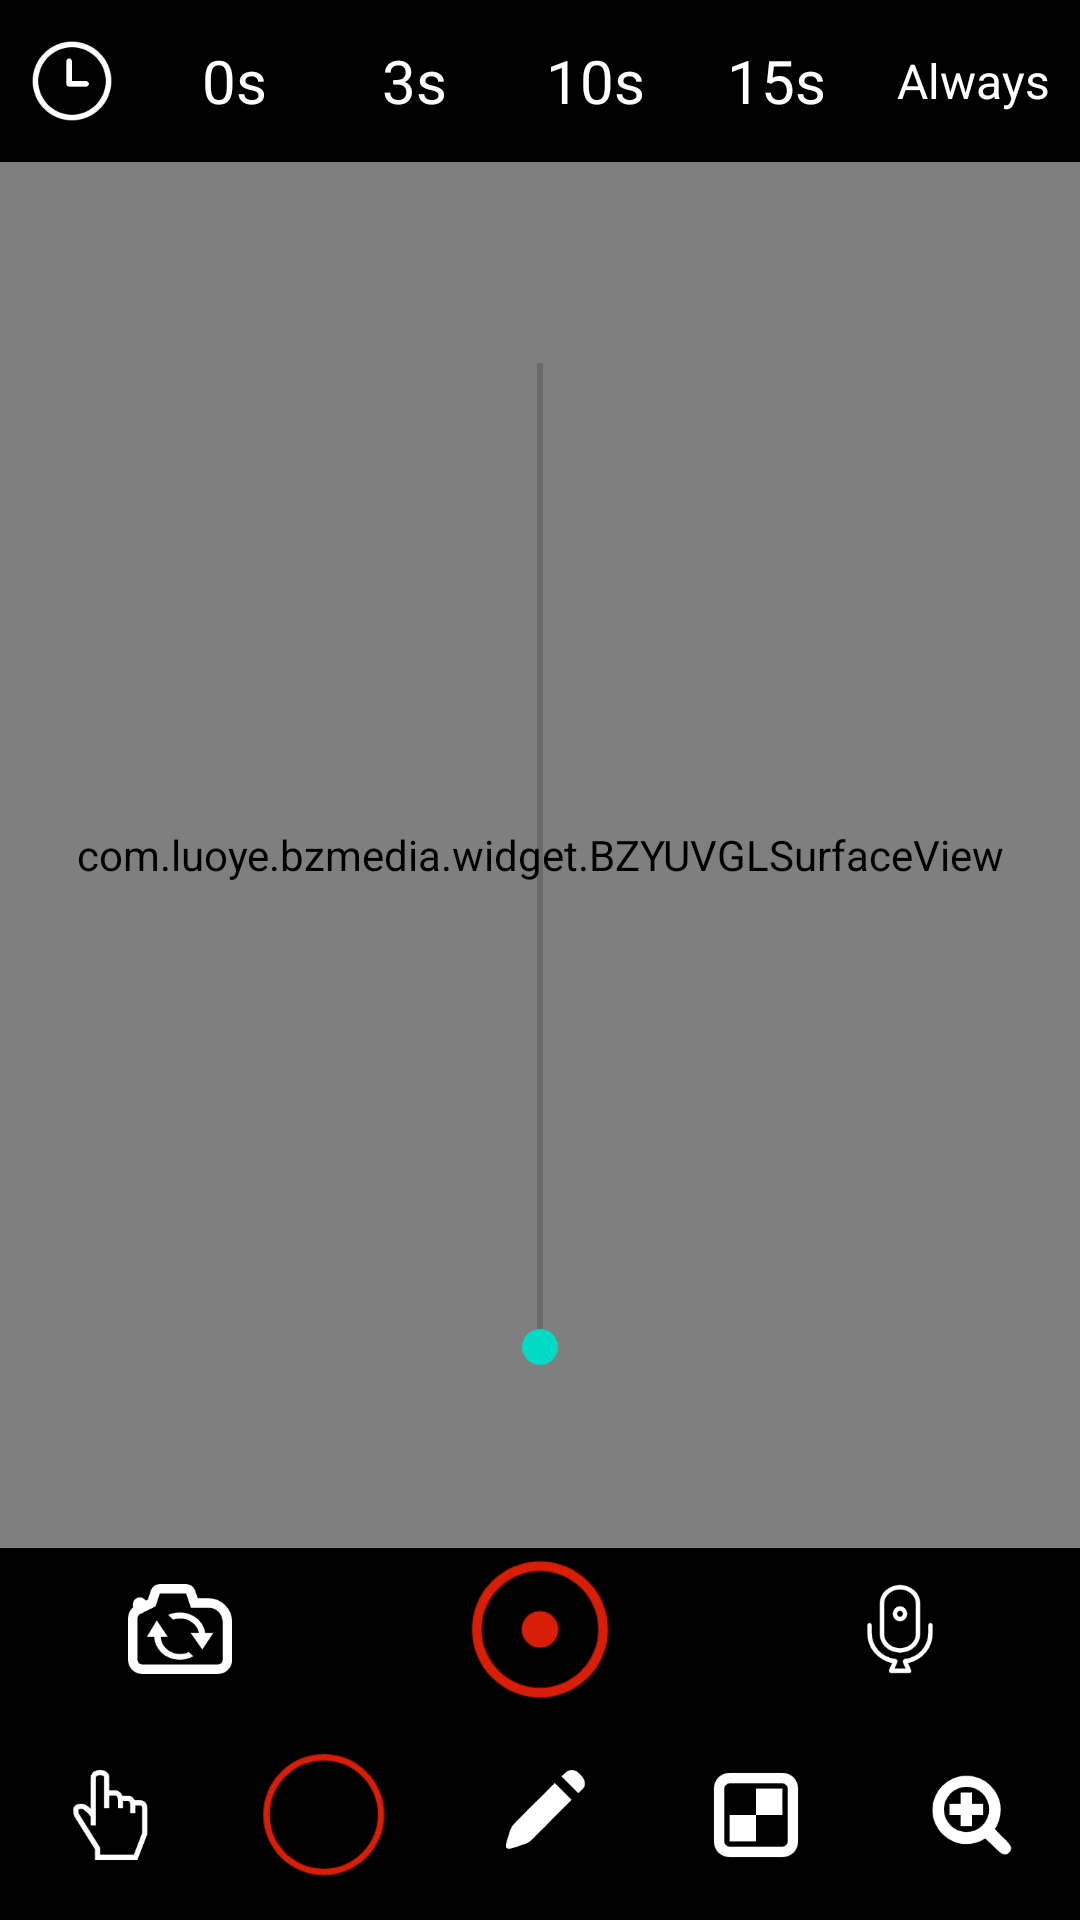

Where to tap for icons on this 1080px x 1920px app screen, as point (x, y):
camera inversion: point (180, 1629)
circle: point (324, 1814)
clock: point (72, 81)
magnifier: point (972, 1815)
mosaic: point (756, 1815)
pencil: point (545, 1809)
pointer: point (110, 1815)
sound recording: point (900, 1629)
video recording: point (540, 1629)
